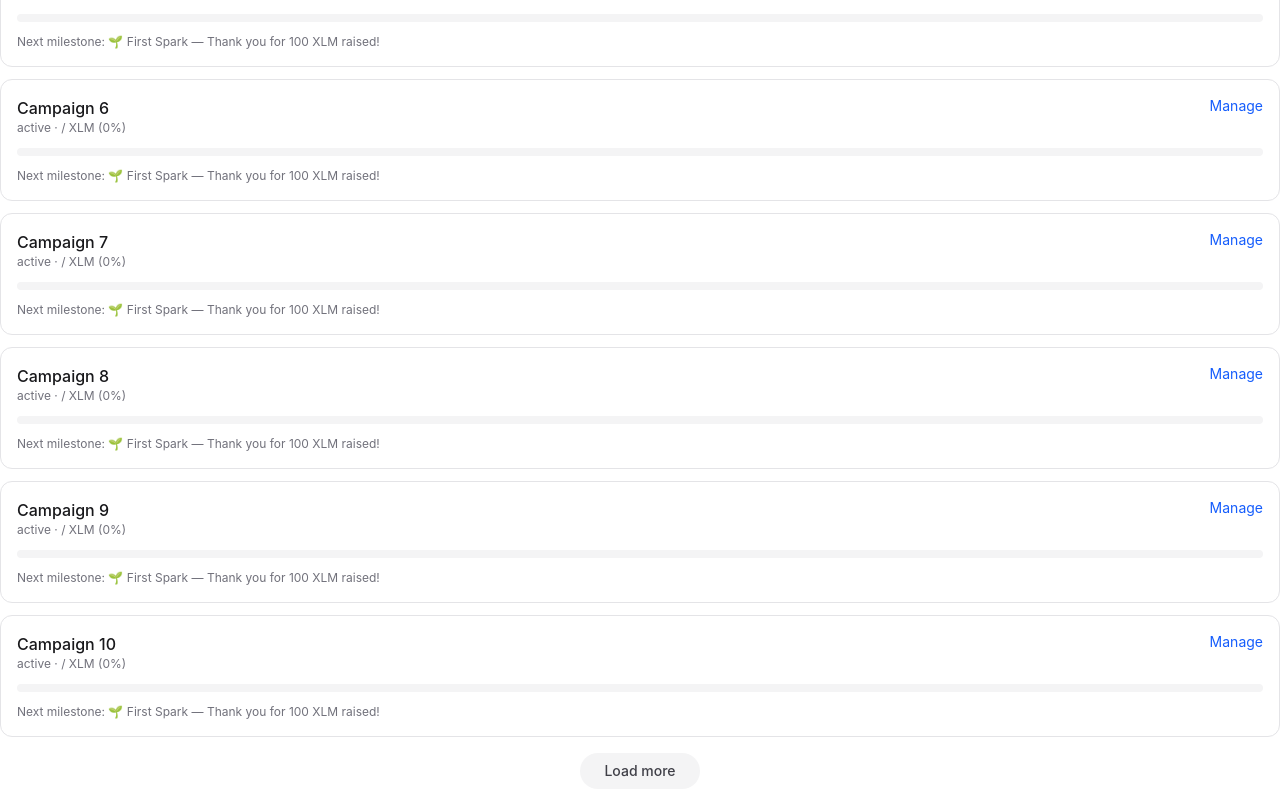
Test: CreatorDashboard pagination (issue #1106) › reveals more campaigns on Load more and hides the button once all are shown
The width and height of the screenshot is (1280, 789).
(page scrolled)
Click the button "Load more": x=640, y=771 [580,753,700,788]
(page scrolled)
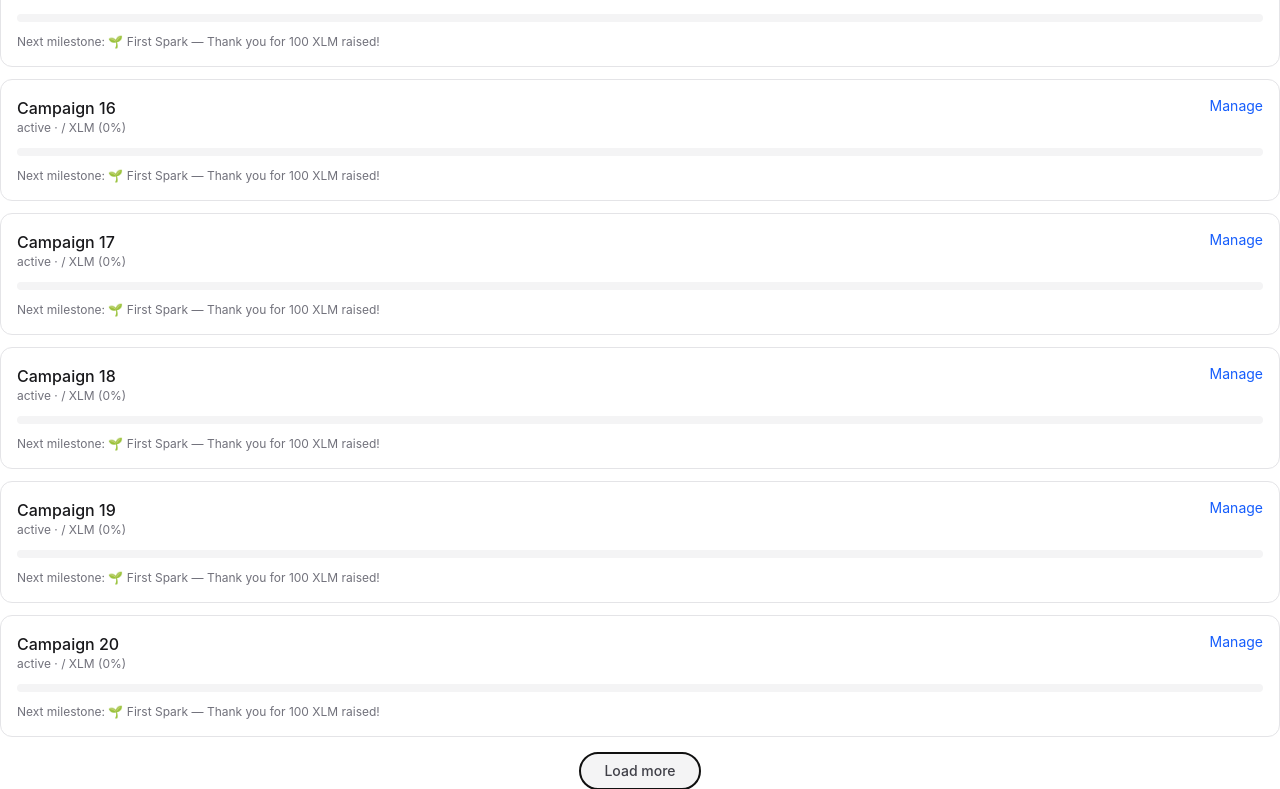
Now the heading "Campaign 20" is shown, box [17,632,126,656]
Click the button "Load more": x=640, y=771 [580,753,700,788]
(page scrolled)
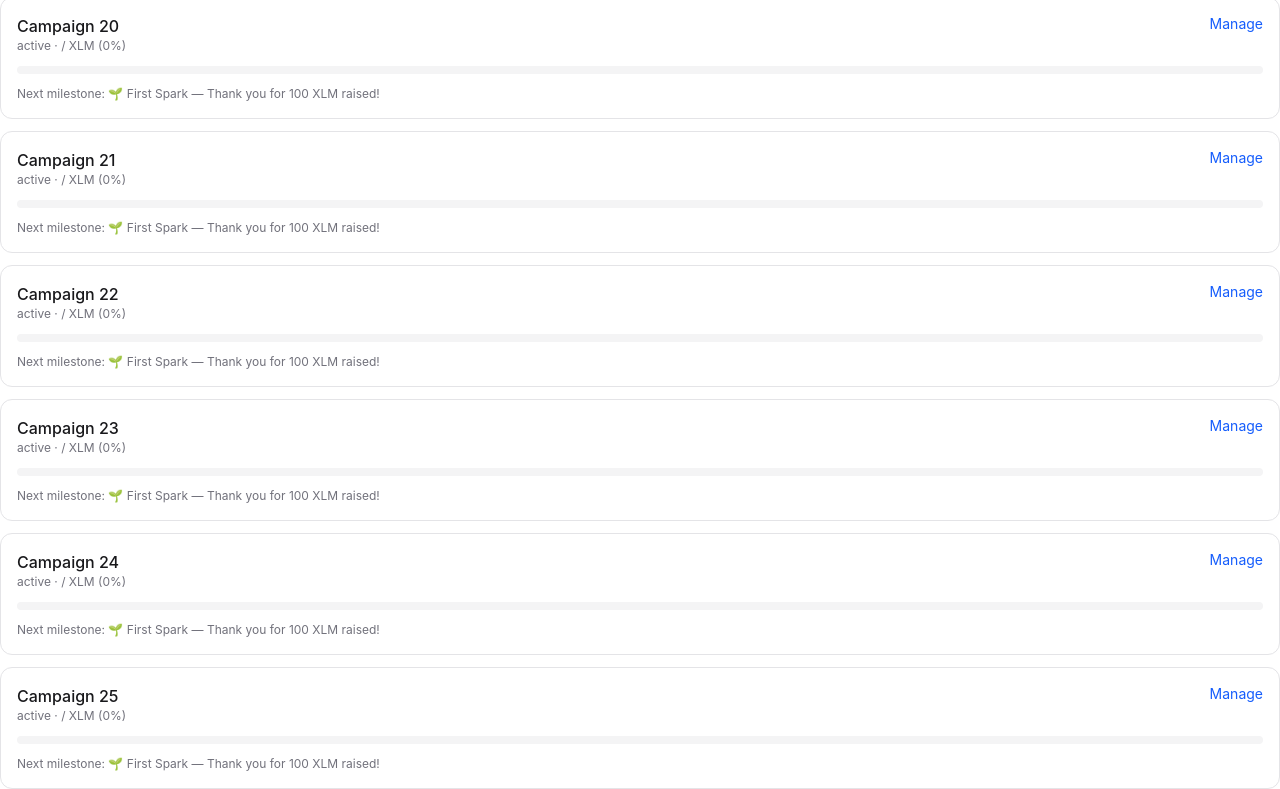
Now the heading "Campaign 25" is shown, box [17,684,126,708]
Now the button "Load more" is gone
